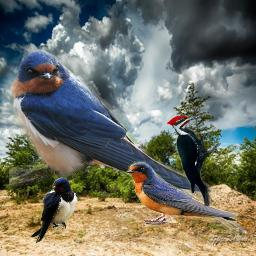Swallow: (9, 49, 249, 239), (124, 160, 237, 229), (30, 177, 78, 244)
Woodpecker: (167, 113, 221, 206)
